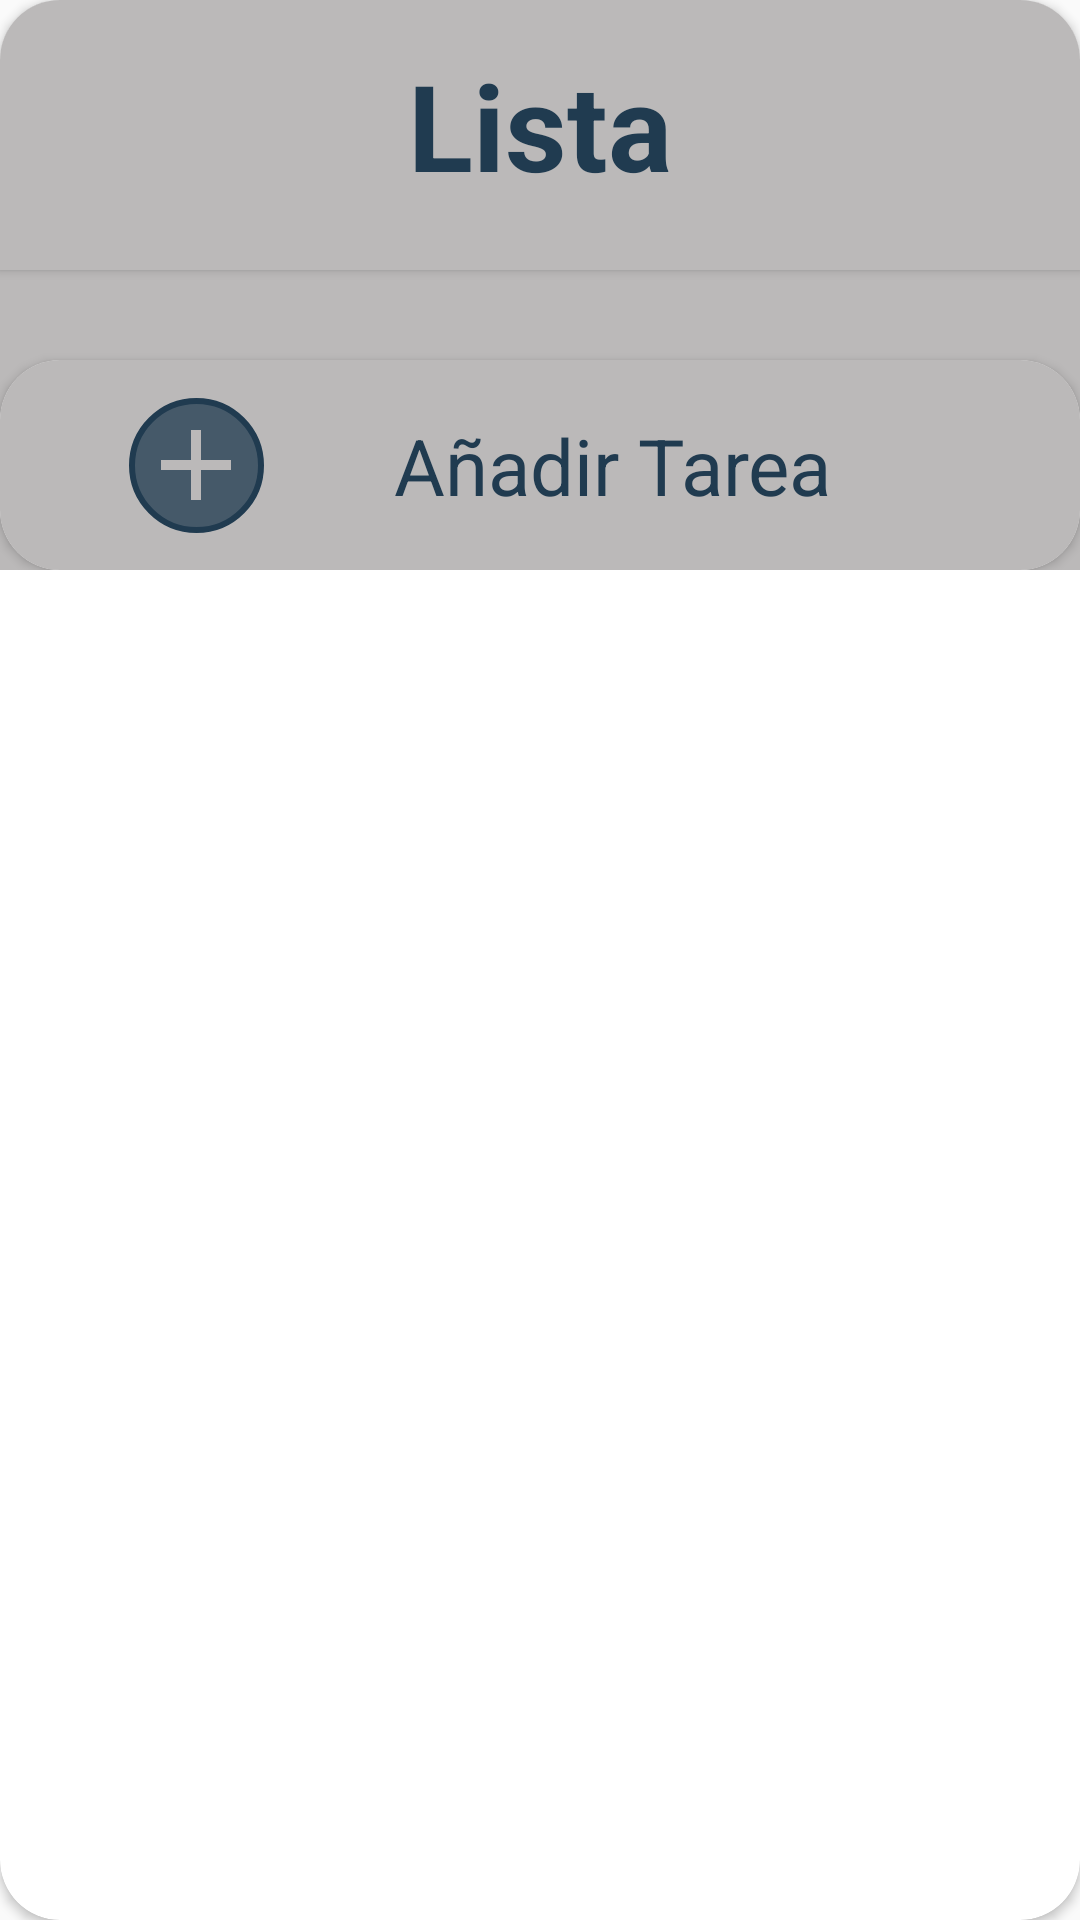

Icons on this 1080w x 1920h Android screen, each with its box as (x1, y1, x2, y2):
add: (136, 405, 256, 525)
